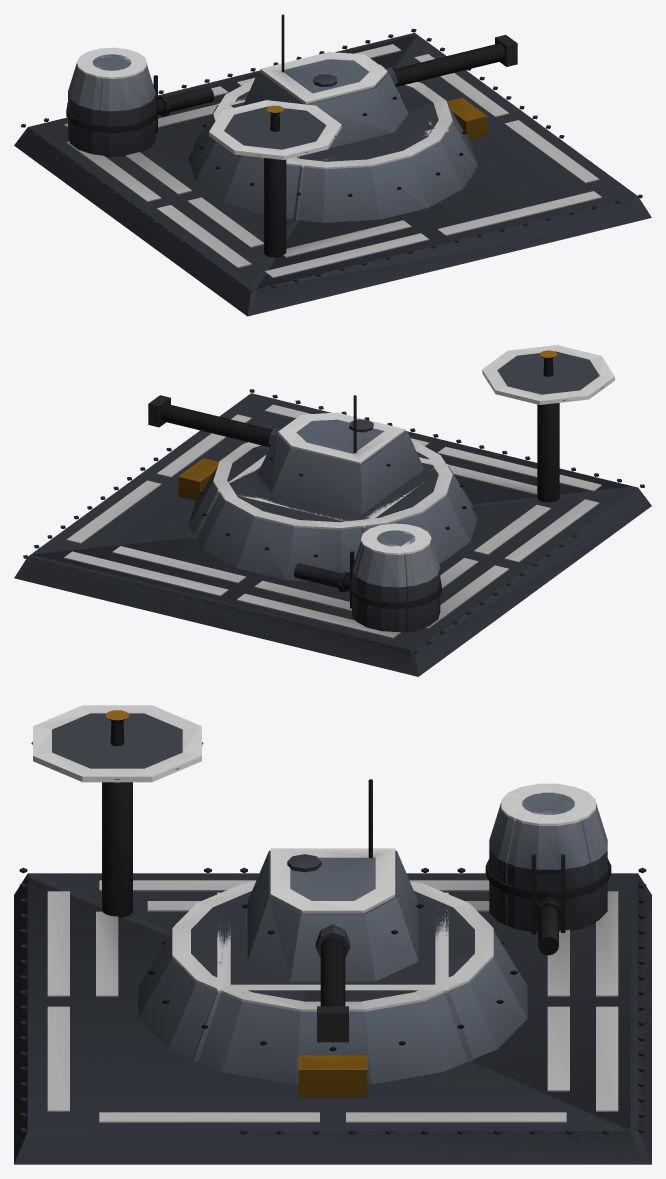
Rendered from network_unmanned_artillery.glb.
The picture shows the model from 3 angles, top to bottom: view 1: azimuth 30°, elevation 25°; view 2: azimuth 150°, elevation 25°; view 3: azimuth 270°, elevation 25°; orthographic projection. The views are drawn at different scales.
Visible parts, largest first — view 1: body (×3), turret, barrel; view 2: body (×3), turret, barrel; view 3: body (×3), turret, barrel.
Part boxes in pixels (<box>): body (×3): <box>14,28,651,316</box>; turret: <box>243,14,408,148</box>; barrel: <box>384,34,517,87</box>; body (×3): <box>14,345,651,676</box>; turret: <box>257,395,423,514</box>; barrel: <box>148,395,281,448</box>; body (×3): <box>14,705,651,1164</box>; turret: <box>242,779,423,981</box>; barrel: <box>315,924,350,1042</box>.
Size of the model in its own units: 7.4 by 2.89 by 7.4.
